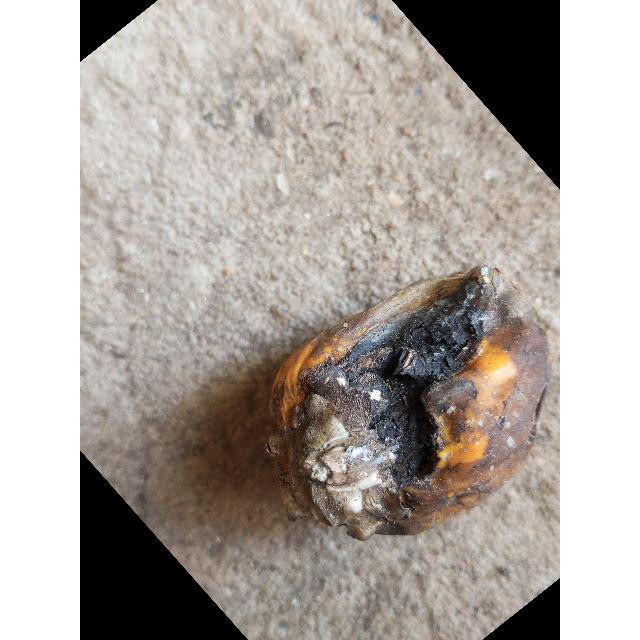damaged: (267, 268, 552, 542)
